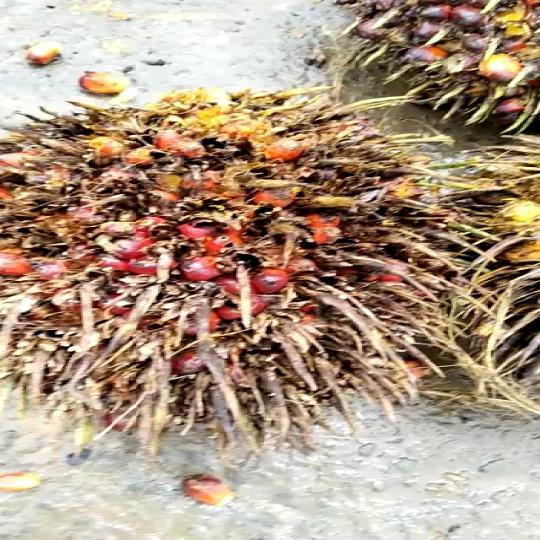terlalu masak: (0, 75, 503, 460)
